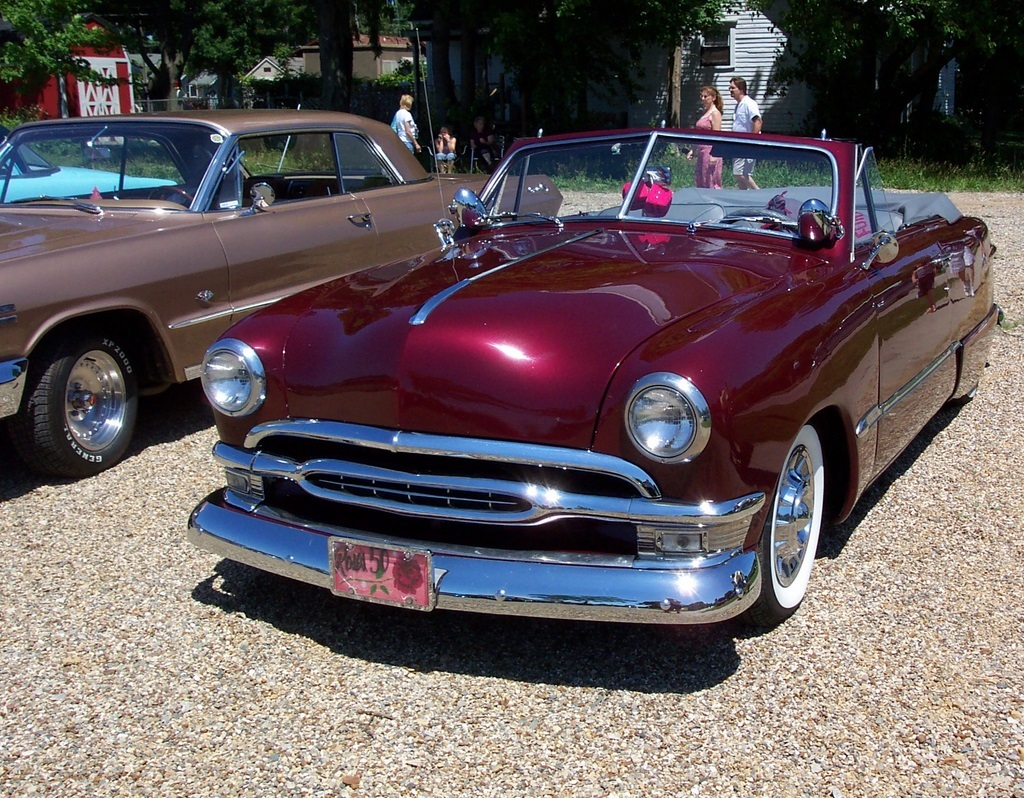Car: (184, 126, 972, 653), (0, 108, 560, 481), (0, 127, 176, 198)
